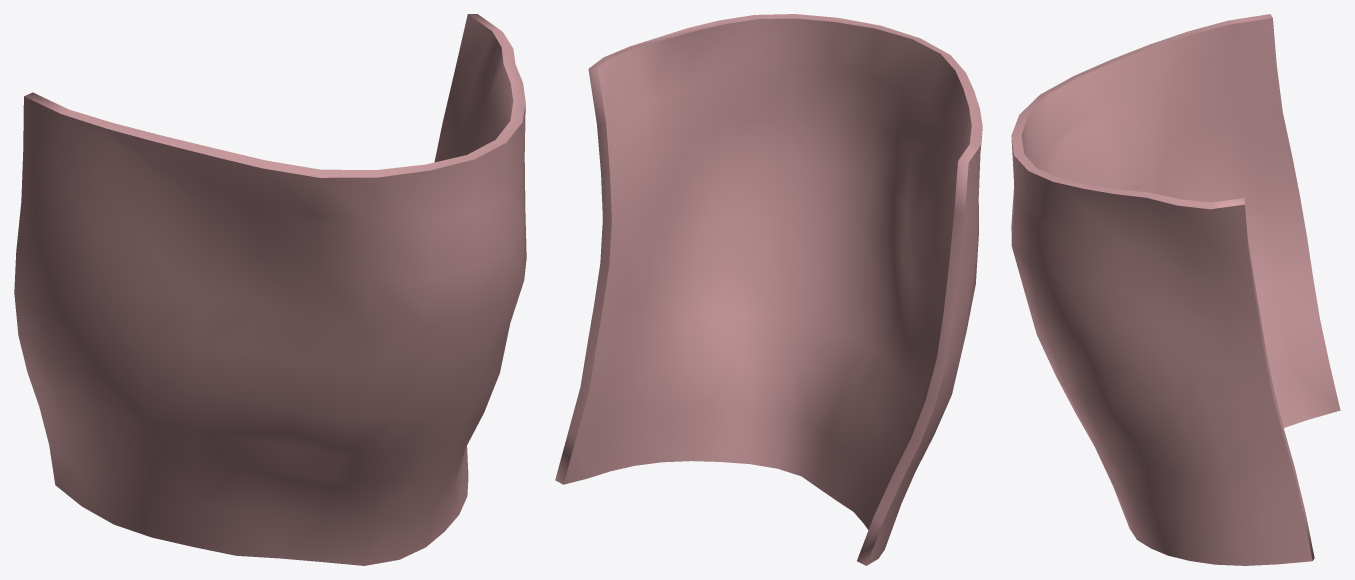
The picture shows the model from 3 angles, left to right: view 1: azimuth 30°, elevation 25°; view 2: azimuth 150°, elevation 25°; view 3: azimuth 270°, elevation 25°; orthographic projection. The views are drawn at different scales.
Visible parts, largest first — view 1: ZA_9bc938e75009139b; view 2: ZA_9bc938e75009139b; view 3: ZA_9bc938e75009139b.
Part boxes in pixels (<box>): ZA_9bc938e75009139b: <box>14,14,526,565</box>; ZA_9bc938e75009139b: <box>555,14,982,565</box>; ZA_9bc938e75009139b: <box>1011,14,1340,565</box>.
Size of the model in its own units: 0.1236 by 0.1263 by 0.0951.
